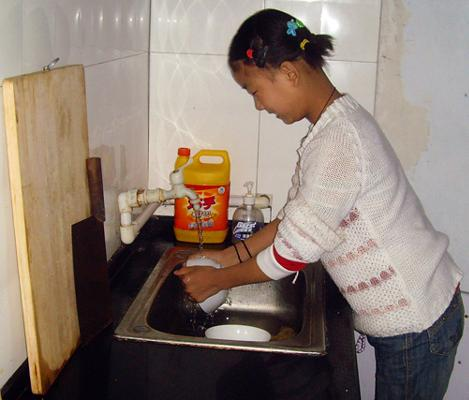person: (171, 8, 467, 400)
